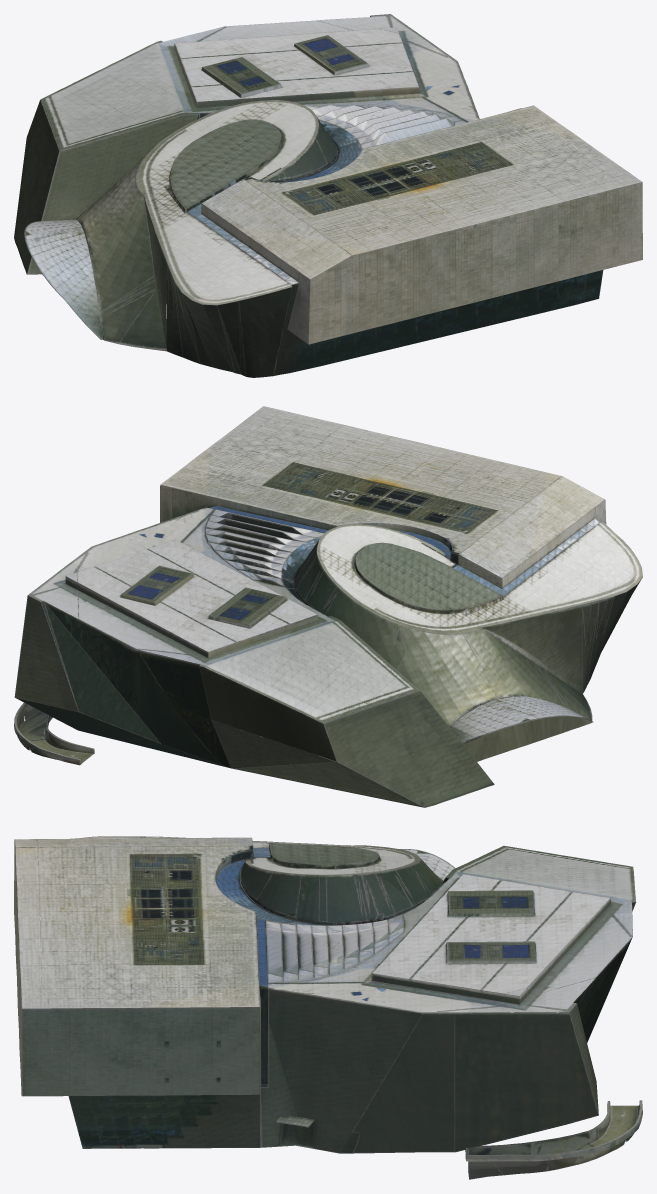
Rendered from FTYX0905.obj.
3 renders of one model, top to bottom at view 1: azimuth 30°, elevation 25°; view 2: azimuth 150°, elevation 25°; view 3: azimuth 270°, elevation 25°, orthographic. The views are drawn at different scales.
Bounding box in the file's own units: 151 × 53.61 × 158.
1 material, 1 textured.
